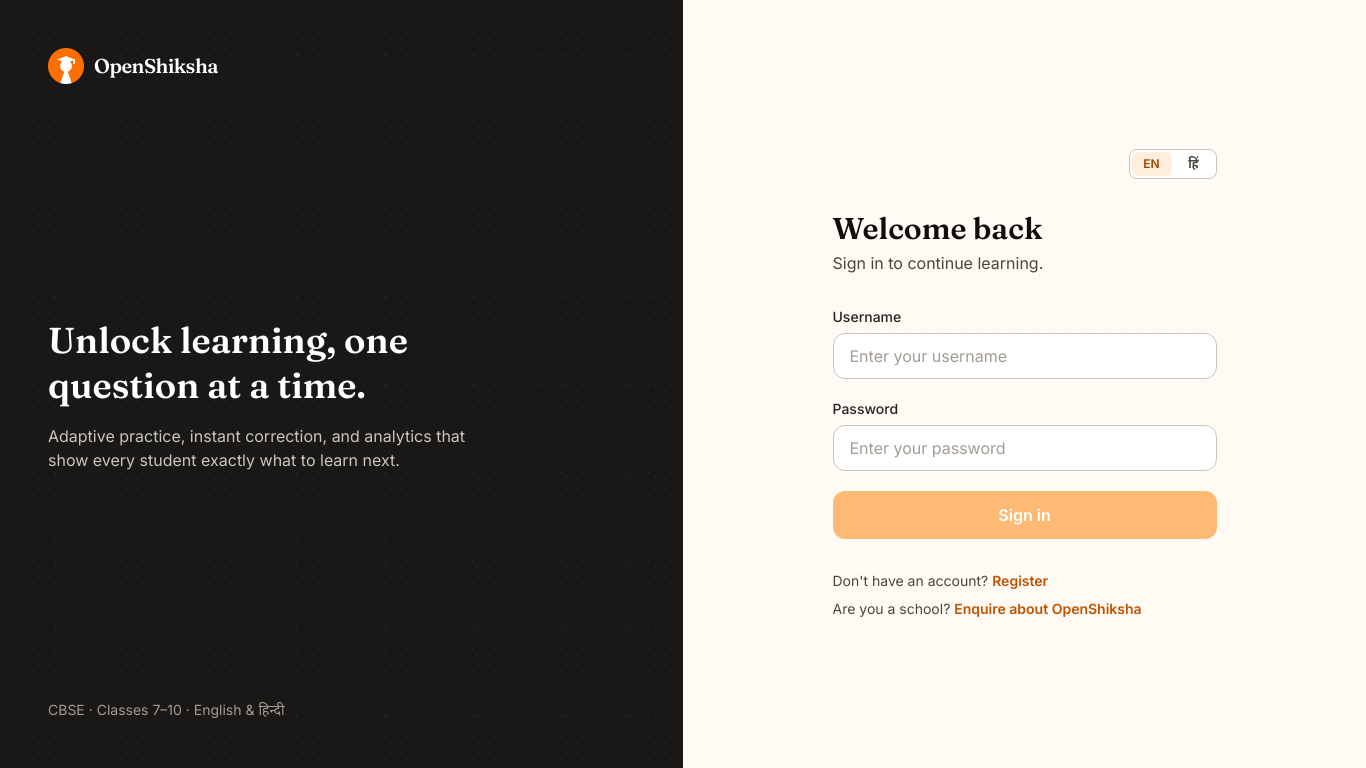
Test: LoginPage › shows error message on failed login
In the field labelled "Username": (1024, 356) [832,333,1216,379], type "wrong"
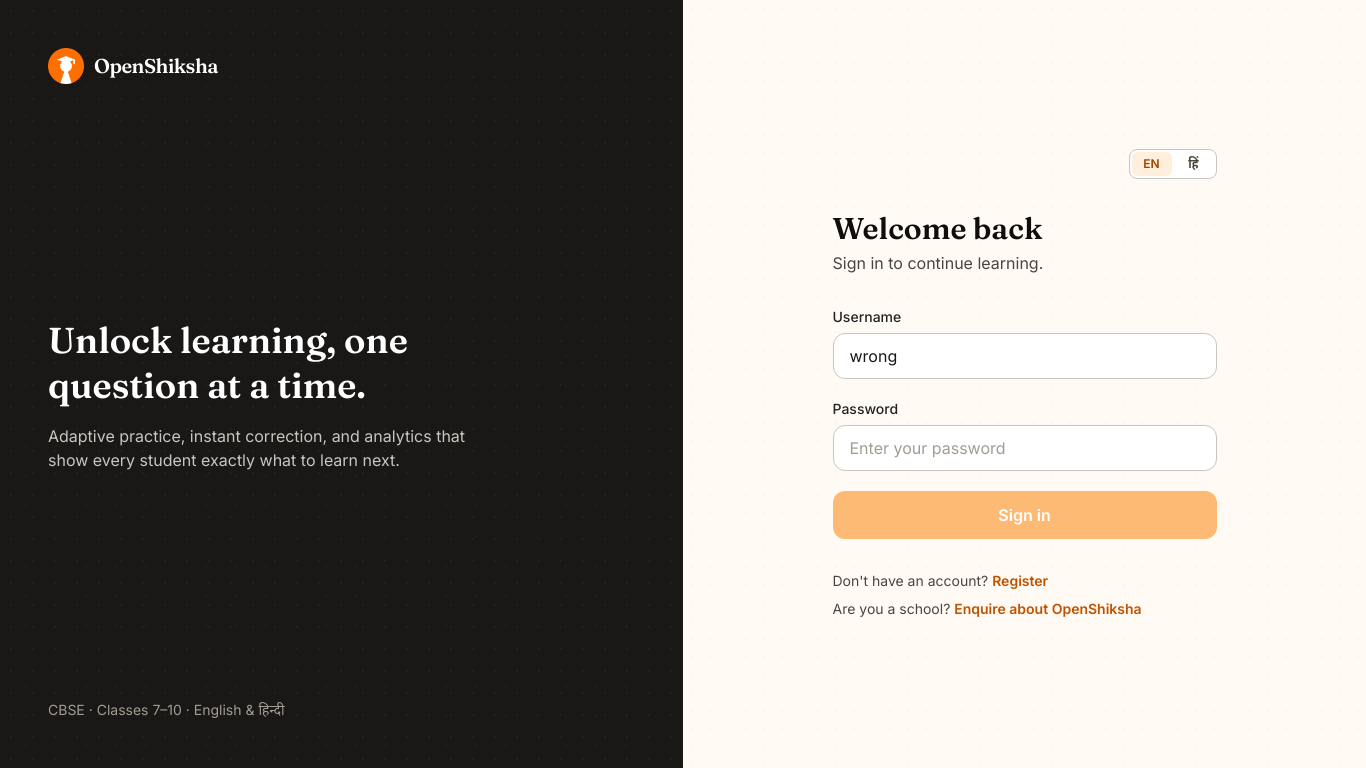
In the password field labelled "Password": (1024, 448) [832,425,1216,471], type "wrong"
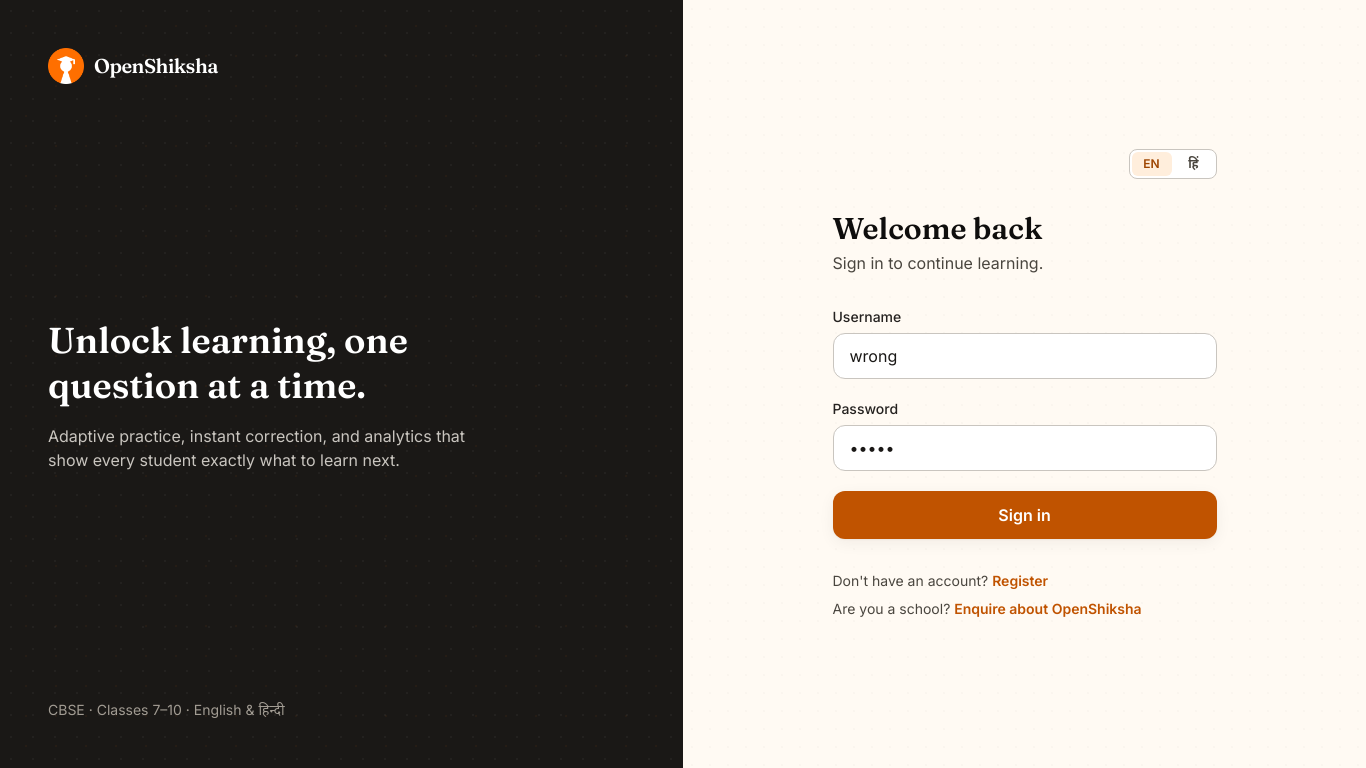
Submit the form "Username Password Sign in", box [832,307,1216,539]
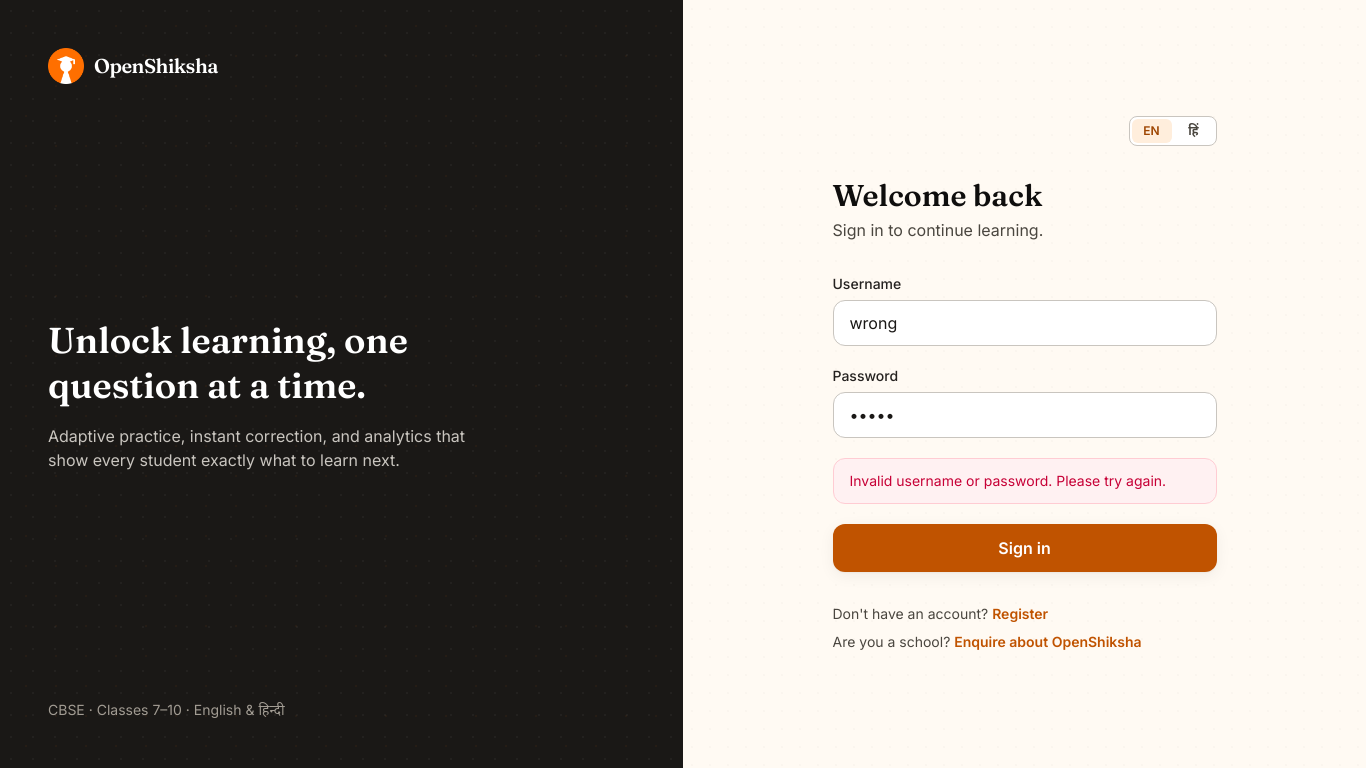
Check: the text "Invalid username or password. Please try again." is shown, box [832,458,1216,504]
